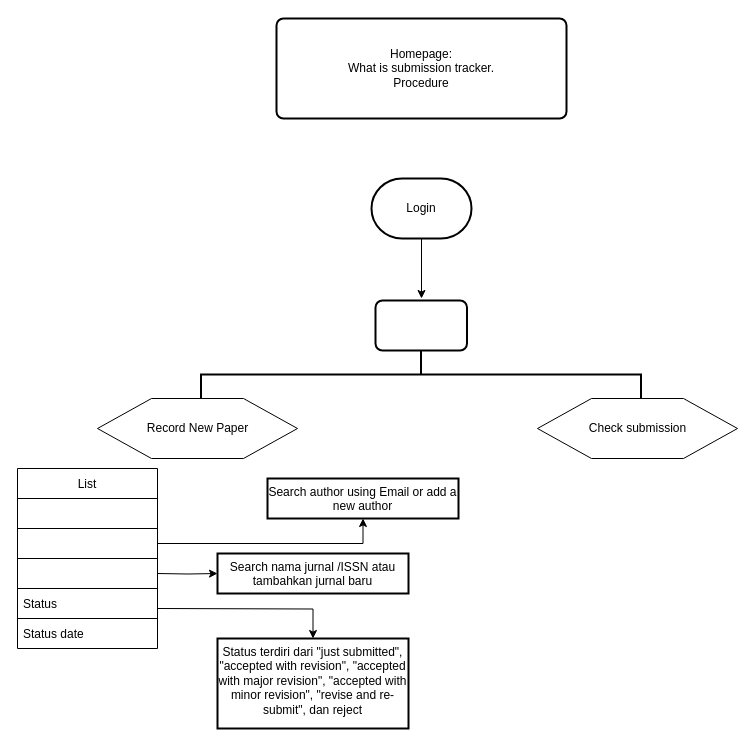
Some shapes in this 755 by 746 pixel diagram are drawn without their labels. Each missing label, with the centre of its shape:
Author: the point at 87,543
Dashboar: the point at 421,325
Journal: the point at 87,573
Title: the point at 87,513
